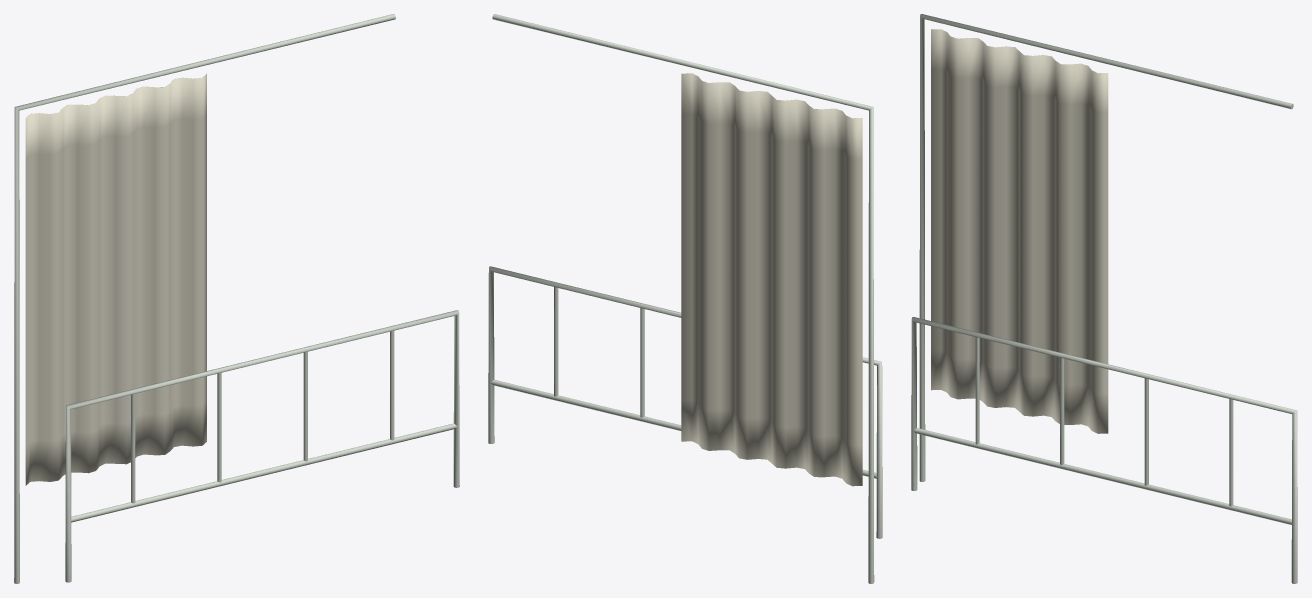
File: bedside_lod0.glb
The picture shows the model from 3 angles, left to right: view 1: azimuth 30°, elevation 25°; view 2: azimuth 150°, elevation 25°; view 3: azimuth 330°, elevation 25°; orthographic projection. The views are drawn at different scales.
Parts seen in each view (by area): view 1: partialCurtain, curtainFrame, bedRail, bedRailLower; view 2: partialCurtain, curtainFrame, bedRail, bedRailLower, railUpright.002, railUpright.003; view 3: partialCurtain, curtainFrame, bedRail, bedRailLower, railUpright, railUpright.002, railUpright.001, railUpright.003.
Boxes of the visible parts, box(x1,y1,x2,y2) form: partialCurtain: box(25, 74, 206, 485); curtainFrame: box(14, 14, 395, 583); bedRail: box(65, 310, 459, 582); bedRailLower: box(70, 423, 457, 522); partialCurtain: box(681, 73, 862, 486); curtainFrame: box(492, 14, 874, 583); bedRail: box(488, 266, 882, 538); bedRailLower: box(490, 379, 877, 478); railUpright.002: box(640, 308, 644, 417); railUpright.003: box(554, 287, 558, 396); partialCurtain: box(931, 29, 1108, 433); curtainFrame: box(919, 14, 1293, 481); bedRail: box(911, 317, 1297, 583); bedRailLower: box(913, 428, 1292, 524); railUpright: box(975, 337, 979, 444); railUpright.002: box(1144, 378, 1148, 485); railUpright.001: box(1060, 357, 1064, 465); railUpright.003: box(1229, 399, 1233, 506).
Size of the model in its own units: 1.92 by 2.11 by 0.278.
